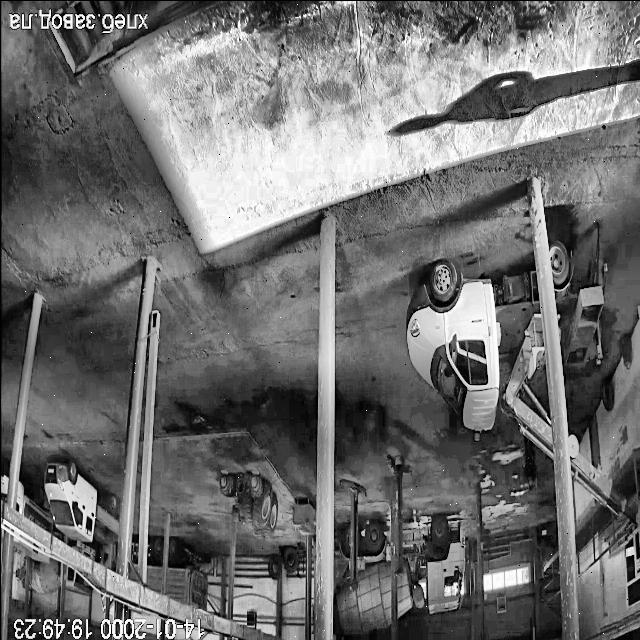mechanic: (524, 437, 534, 492)
truck: (406, 260, 552, 457), (396, 516, 464, 616), (334, 522, 392, 635), (549, 243, 603, 360), (568, 437, 640, 524), (44, 460, 118, 542), (165, 538, 206, 610), (16, 484, 52, 532), (4, 524, 48, 562), (146, 538, 162, 592), (0, 475, 8, 500), (129, 564, 139, 580), (132, 548, 137, 558), (560, 325, 564, 332), (0, 531, 2, 535)
